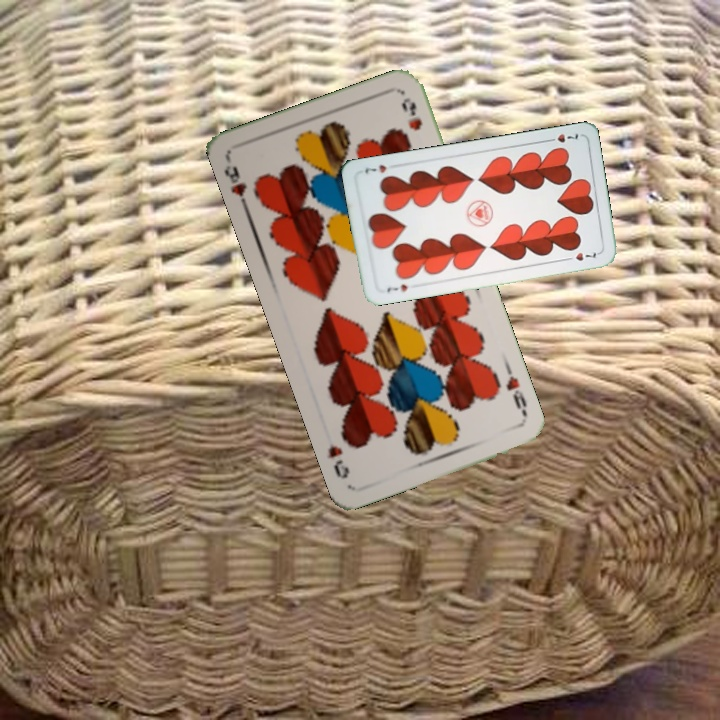H7: (542, 130, 581, 145), (383, 280, 410, 295)
H9: (220, 155, 251, 213), (502, 363, 530, 419)
